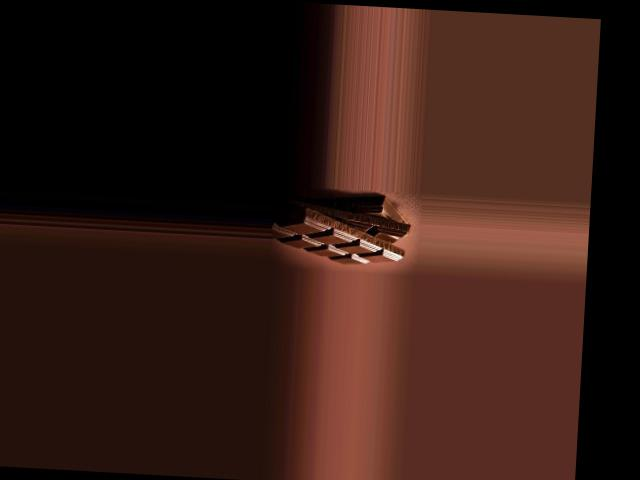chocolate: (274, 198, 410, 266)
